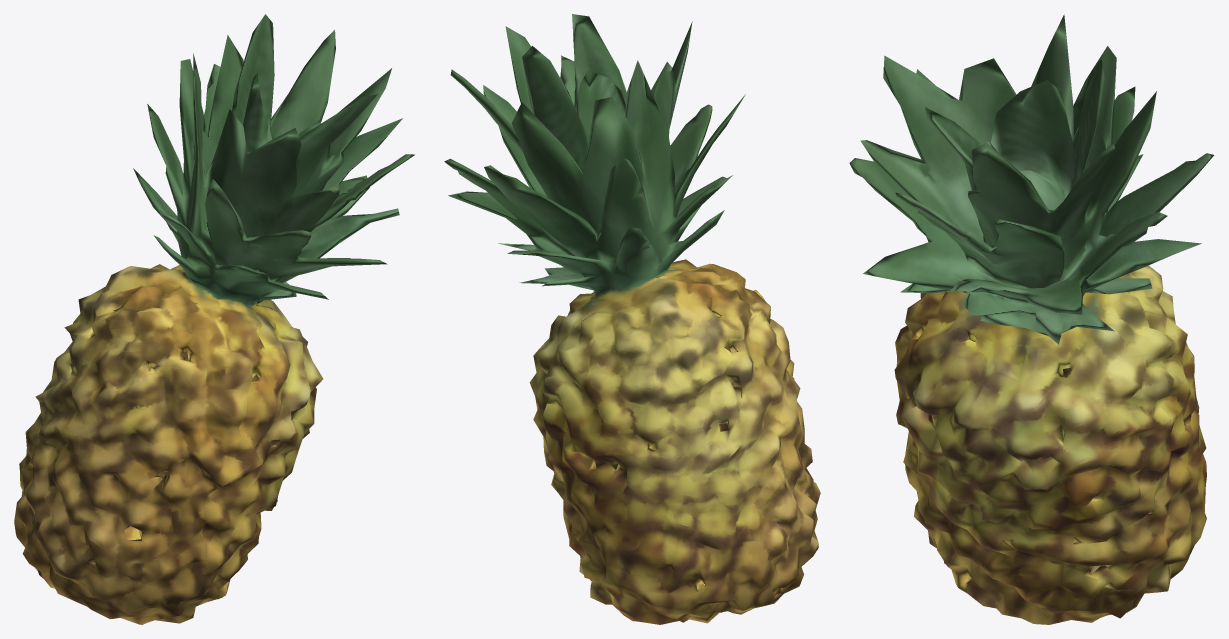
File: pineapple.glb
3 views of the same model, side by side, from view 1: azimuth 30°, elevation 25°; view 2: azimuth 150°, elevation 25°; view 3: azimuth 270°, elevation 25° (orthographic). The views are drawn at different scales.
Parts seen in each view (by area): view 1: Object_16; view 2: Object_16; view 3: Object_16.
Boxes of the visible parts, left/top/right/bottom form: Object_16: left=14, top=14, right=414, bottom=624; Object_16: left=444, top=14, right=820, bottom=624; Object_16: left=849, top=14, right=1213, bottom=624.
Size of the model in its own units: 0.1346 by 0.2017 by 0.1069.
1 material, 1 textured.
